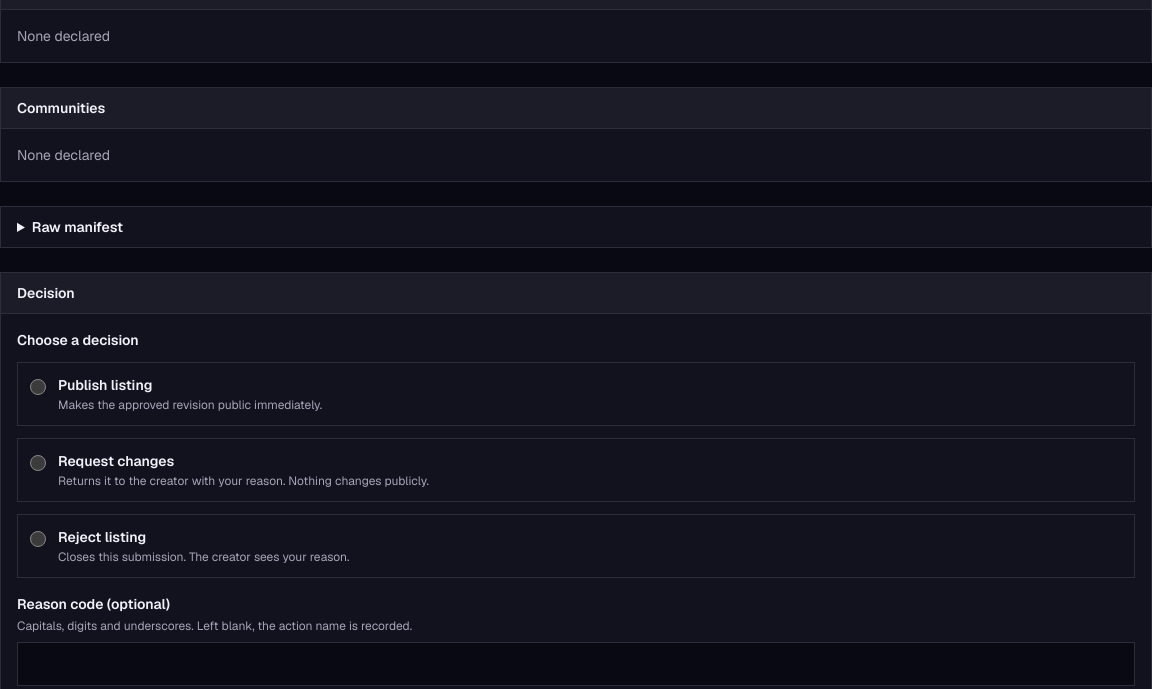
Scenario: ModerationPreview › blocks publishing until the source is resolved and ownership verified
(page scrolled)
Click the radio button labelled "Publish listing".
click(38, 387)  # box [30,379,46,395]
(page scrolled)
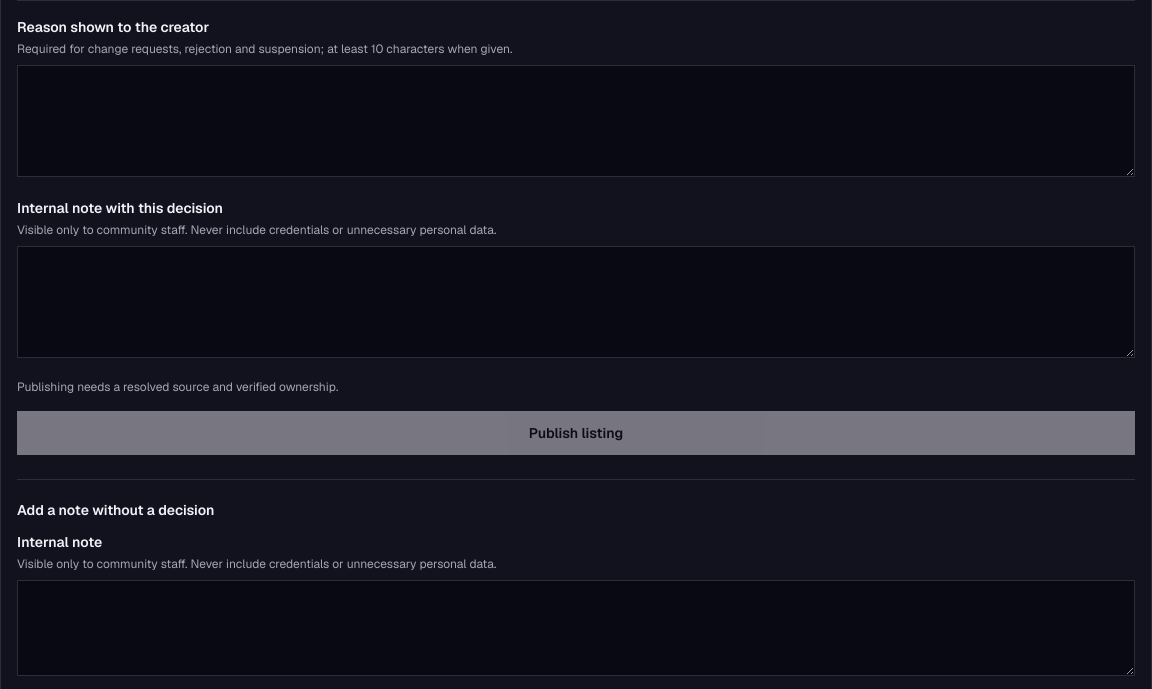
Expected: the button "Publish listing" is disabled, [17,411,1135,455]
Result: the text "Publishing needs a resolved source and verified ownership." is shown at [17,379,338,395]
